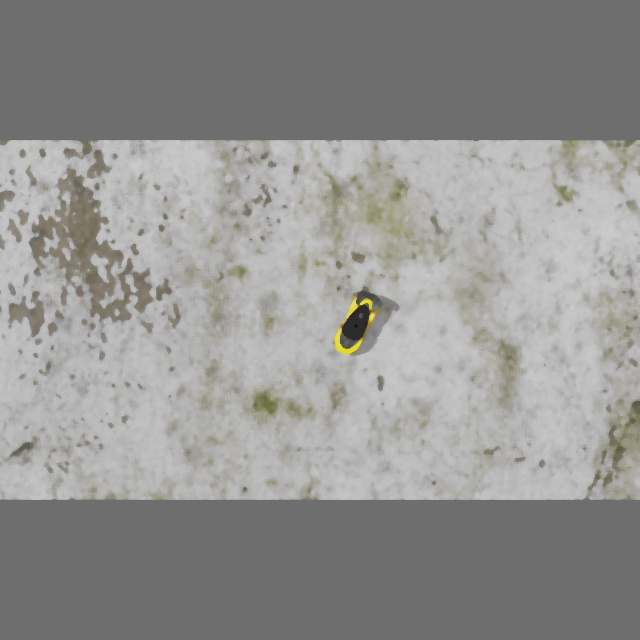car: (327, 287, 385, 361)
